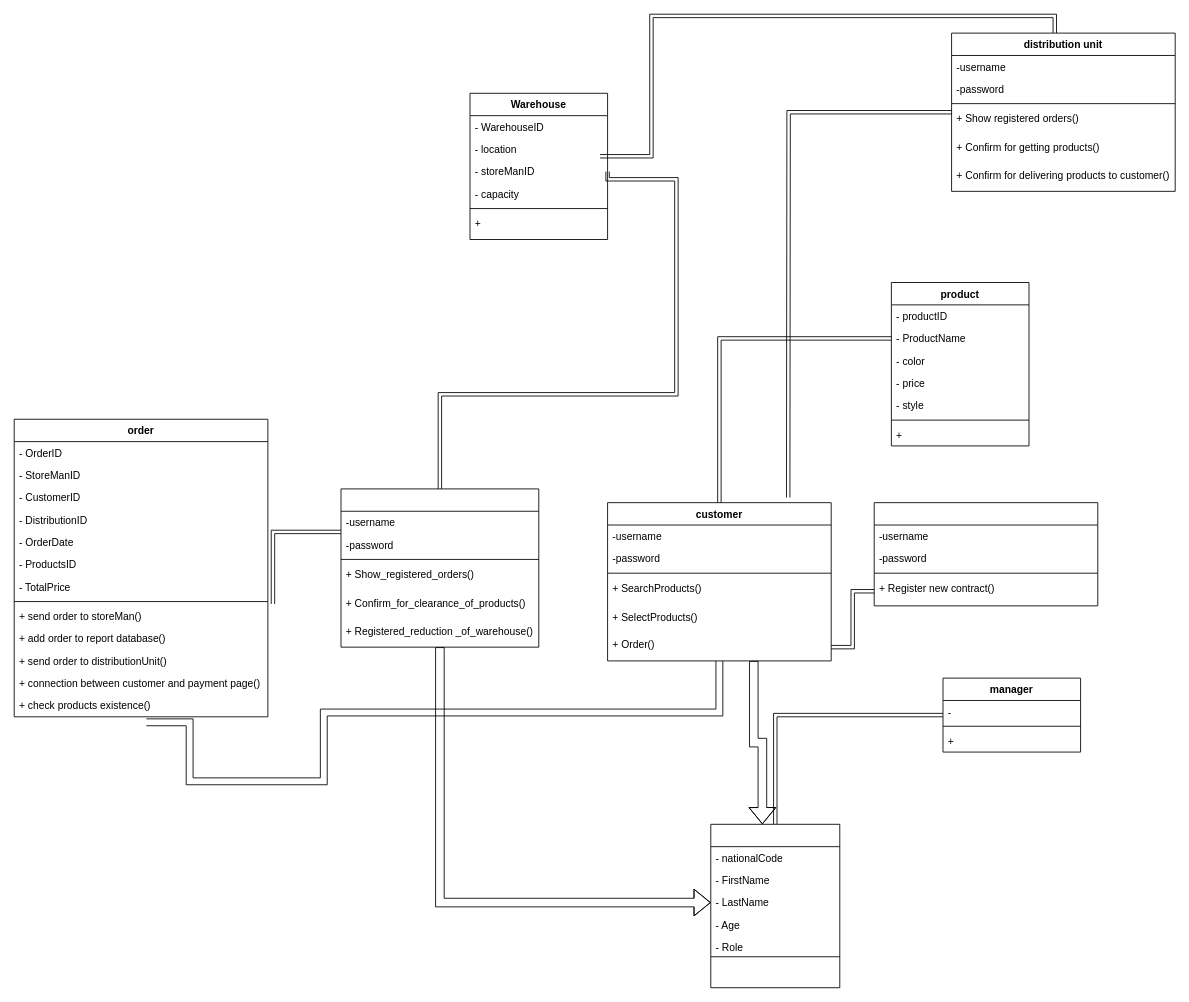
Image size: 1189x1002. Some labels were removed from this diagram. Each missing label, with the box of its shape:
person: (710, 823, 840, 988)
sales unit: (873, 502, 1098, 606)
warehouse keeper: (340, 488, 539, 647)
